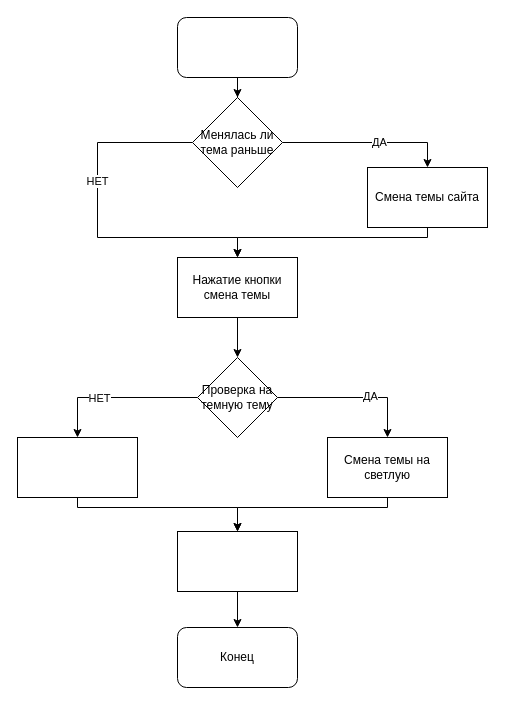
This 505x705 diagram has some shape labels left out. Here are the shapes that lost their labels. From the top down, the centre of each, then its label:
the point at 237,47: Начало
the point at 77,467: Смена темы на темную
the point at 237,561: Окно с текстом об успешной смене темы сайта
